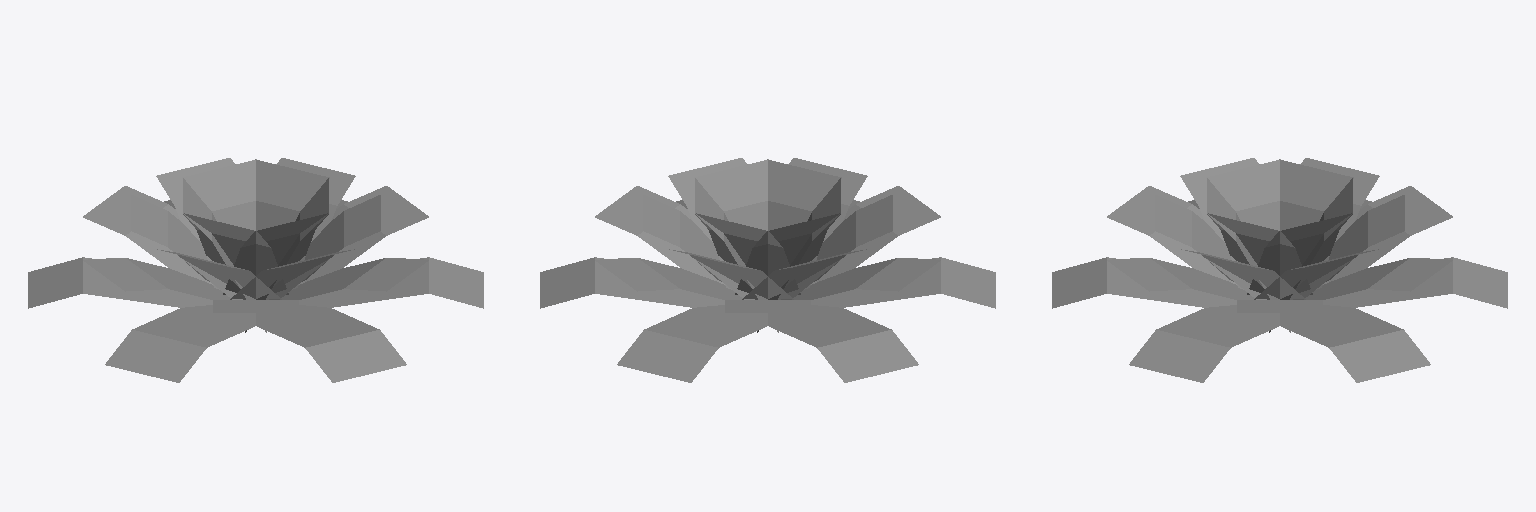
Rendered from paporotnik.obj.
3 renders of one model, left to right at view 1: azimuth 30°, elevation 25°; view 2: azimuth 150°, elevation 25°; view 3: azimuth 270°, elevation 25°, orthographic.
Visible parts, largest first — view 1: Paporotnik; view 2: Paporotnik; view 3: Paporotnik.
Part boxes in pixels (left/top/right/bottom): Paporotnik: left=28, top=158, right=483, bottom=382; Paporotnik: left=540, top=158, right=995, bottom=382; Paporotnik: left=1052, top=158, right=1507, bottom=382.
Size of the model in its own units: 604 by 185 by 628.